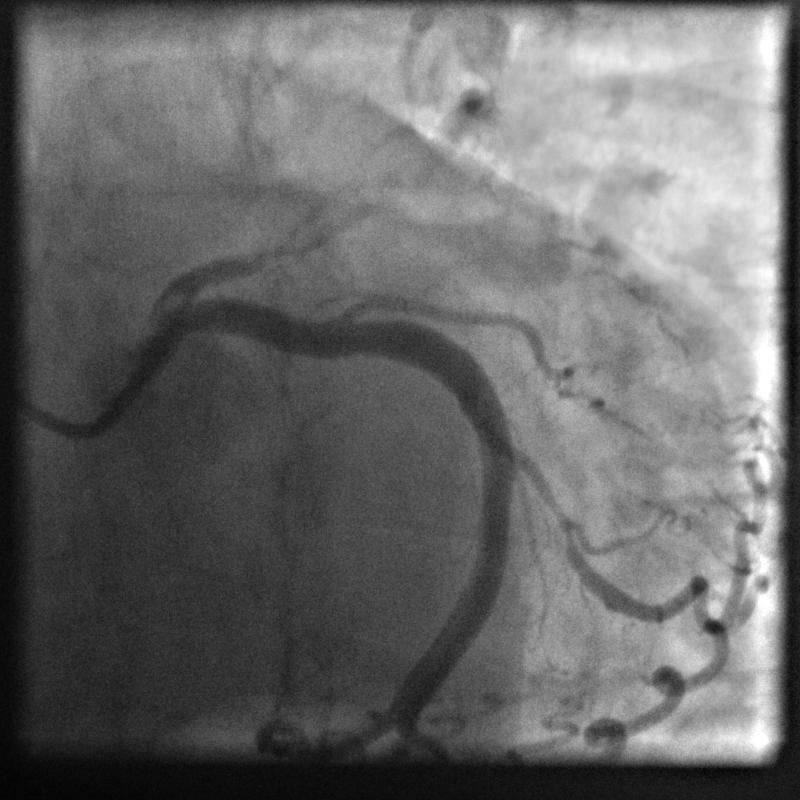Stenosis: (502, 427, 581, 558)
